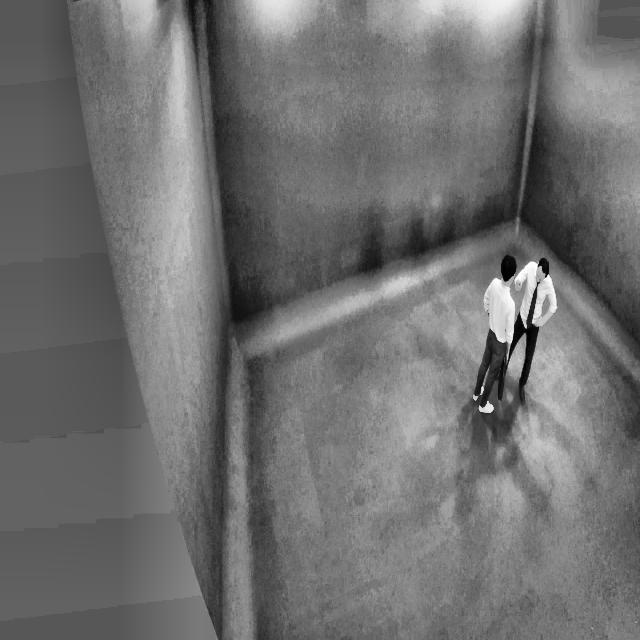assult: (480, 244, 564, 410)
